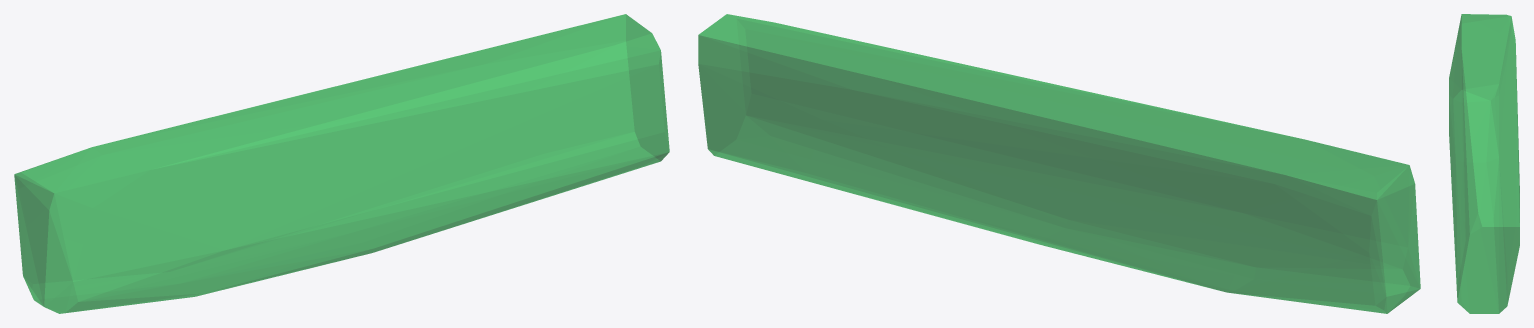
3 views of the same model, side by side, from view 1: azimuth 30°, elevation 25°; view 2: azimuth 150°, elevation 25°; view 3: azimuth 270°, elevation 25° (orthographic). The views are drawn at different scales.
Parts seen in each view (by area): view 1: Shape_IndexedFaceSet.001_Shape_IndexedFaceSet.5652; view 2: Shape_IndexedFaceSet.001_Shape_IndexedFaceSet.5652; view 3: Shape_IndexedFaceSet.001_Shape_IndexedFaceSet.5652.
Part boxes in pixels (box(x1,y1,x2,y2)): Shape_IndexedFaceSet.001_Shape_IndexedFaceSet.5652: box(14, 14, 669, 313); Shape_IndexedFaceSet.001_Shape_IndexedFaceSet.5652: box(698, 14, 1420, 313); Shape_IndexedFaceSet.001_Shape_IndexedFaceSet.5652: box(1449, 14, 1519, 313).
Size of the model in its own units: 0.5269 by 0.1122 by 0.0728.
